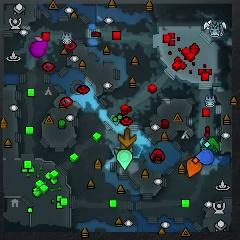p1: (195, 149, 215, 165)
p2: (117, 149, 132, 171)
p3: (30, 40, 49, 57)
p5: (185, 157, 203, 177)
x1: (33, 36, 43, 42)
x2: (114, 144, 134, 156)
x4: (202, 137, 221, 150)
x5: (117, 128, 137, 146)
